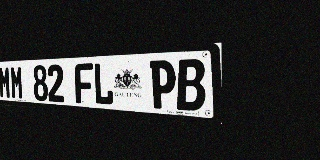2: (47, 64, 64, 102)
8: (33, 65, 48, 101)
B: (176, 59, 205, 111)
F: (75, 63, 93, 104)
L: (93, 62, 114, 106)
M: (10, 66, 23, 100), (0, 66, 11, 99)
P: (150, 60, 176, 110)
